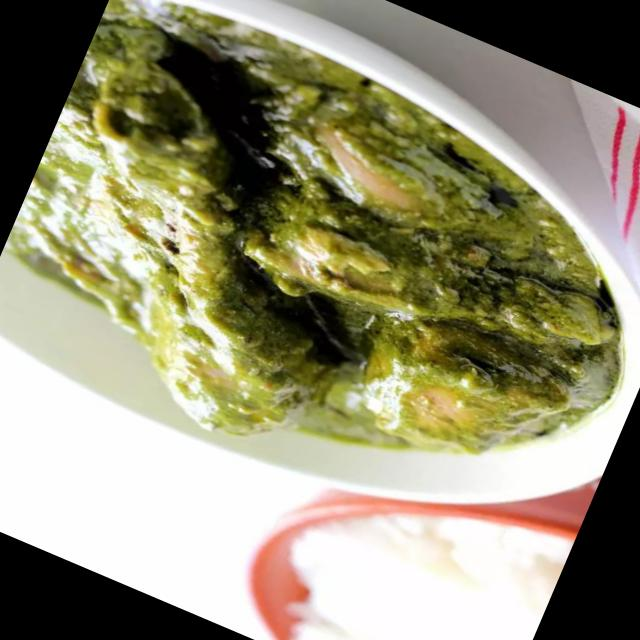chicken: (0, 0, 640, 545)
rice: (255, 474, 560, 640)
